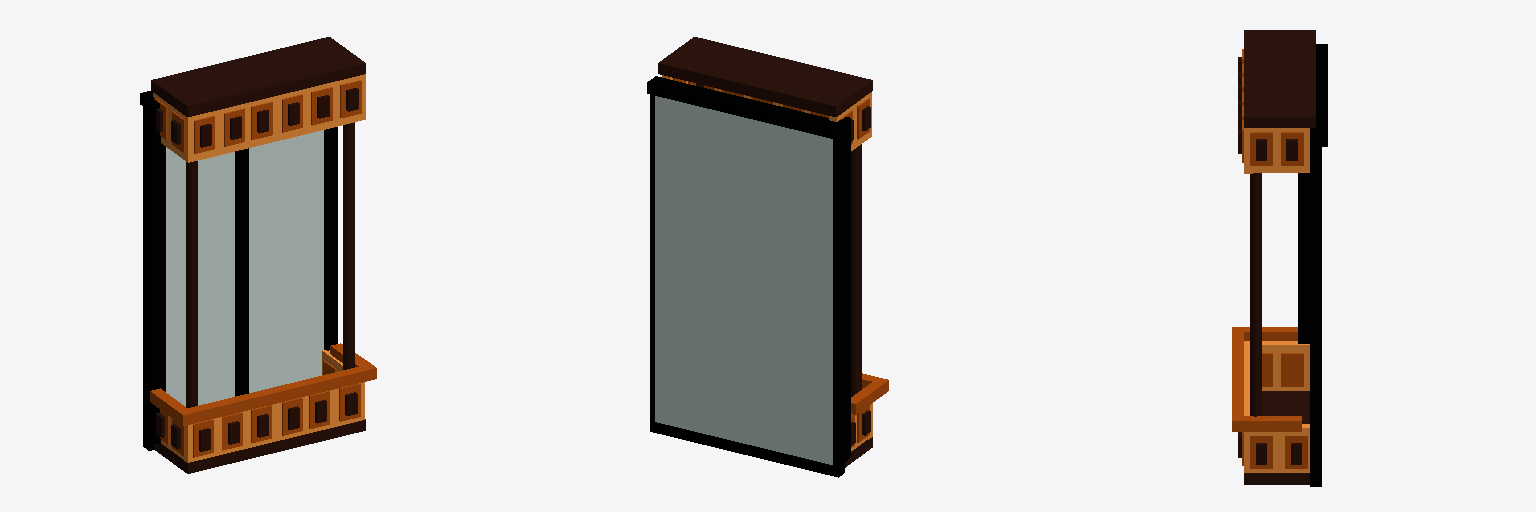
3 views of the same model, side by side, from view 1: azimuth 30°, elevation 25°; view 2: azimuth 150°, elevation 25°; view 3: azimuth 270°, elevation 25° (orthographic).
Parts seen in each view (by area): view 1: group[number redacted]; view 2: group[number redacted]; view 3: group[number redacted].
Part boxes in pixels (x1,y1,x2,y2): group[number redacted]: (140,37,376,473); group[number redacted]: (647,37,888,477); group[number redacted]: (1232,30,1327,486).
Bounding box in the file's own units: 0.37 × 0.67 × 0.16.